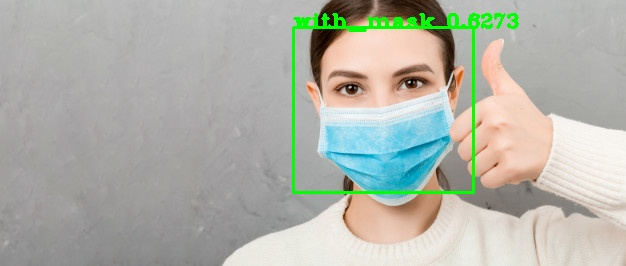with_mask: (304, 9, 480, 204)
